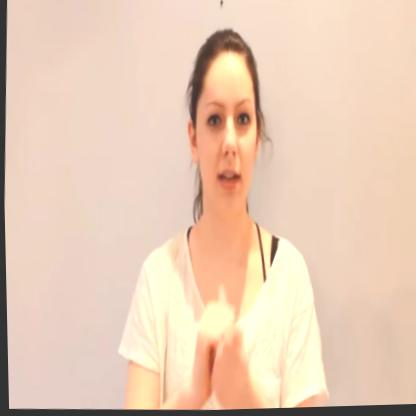HowAreYou: (184, 264, 262, 412)
